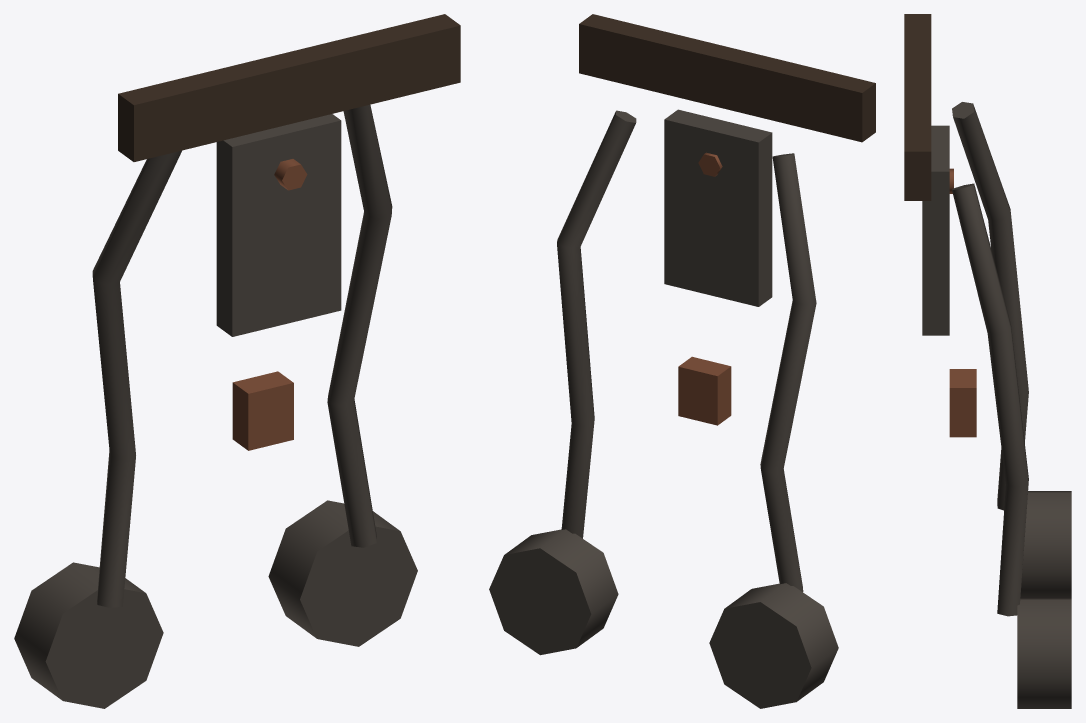
3 views of the same model, side by side, from view 1: azimuth 30°, elevation 25°; view 2: azimuth 150°, elevation 25°; view 3: azimuth 270°, elevation 25° (orthographic). The views are drawn at different scales.
Visible parts, largest first — view 1: raider_gear_shackles; view 2: raider_gear_shackles; view 3: raider_gear_shackles.
Boxes of the visible parts, x1,y1,x2,y2 form: raider_gear_shackles: [14, 14, 460, 708]; raider_gear_shackles: [489, 14, 875, 708]; raider_gear_shackles: [904, 14, 1071, 708].
Bounding box in the file's own units: 0.41 × 0.695 × 0.185.
